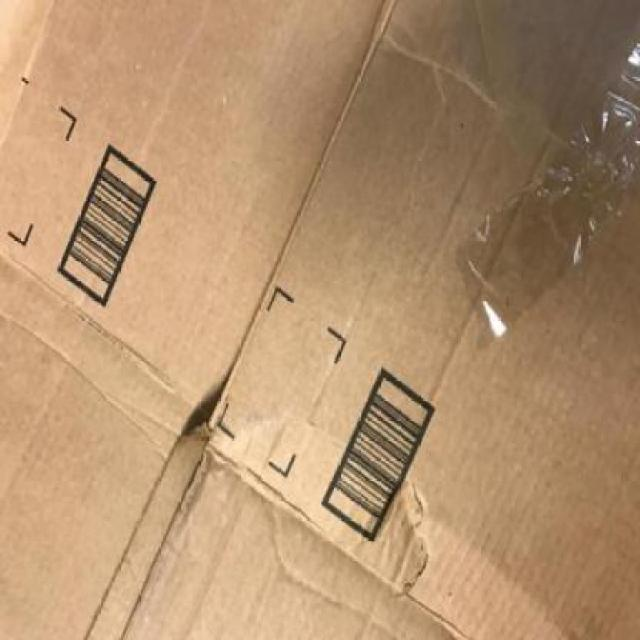CARDBOARD: (0, 0, 638, 638), (83, 423, 468, 639)
